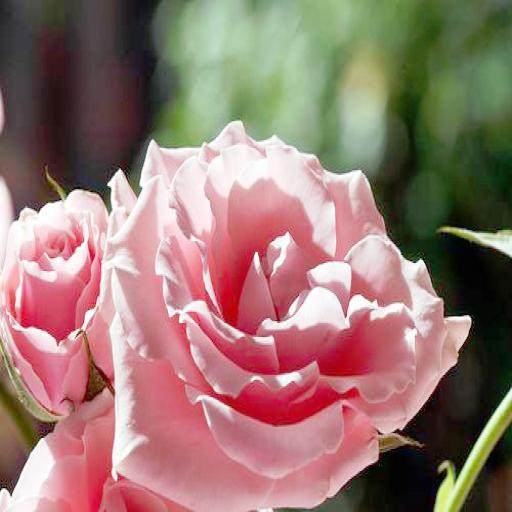rose: (102, 118, 473, 512), (1, 188, 116, 410)
